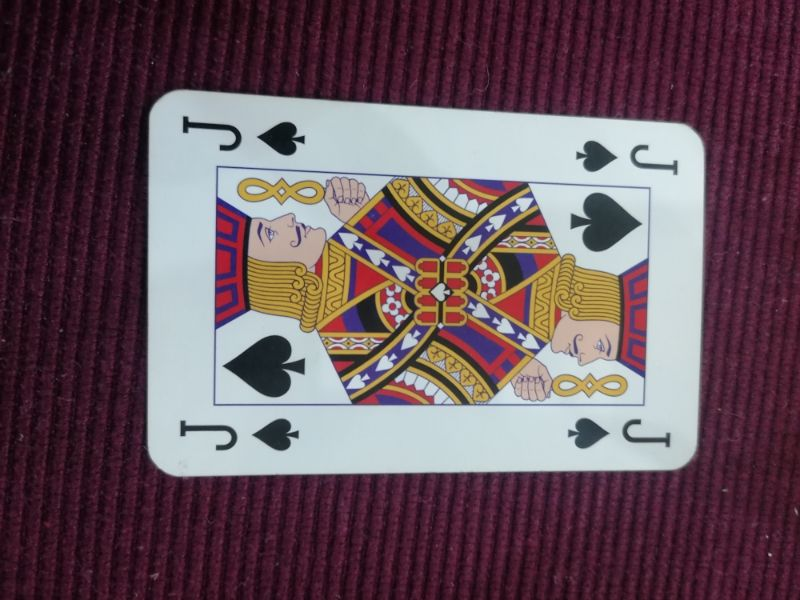Js: (177, 111, 309, 159), (569, 132, 686, 182), (175, 414, 303, 456), (566, 413, 675, 456)
